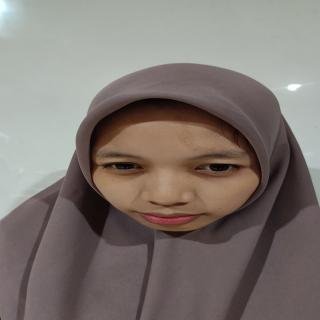Marah: (86, 100, 270, 237)
